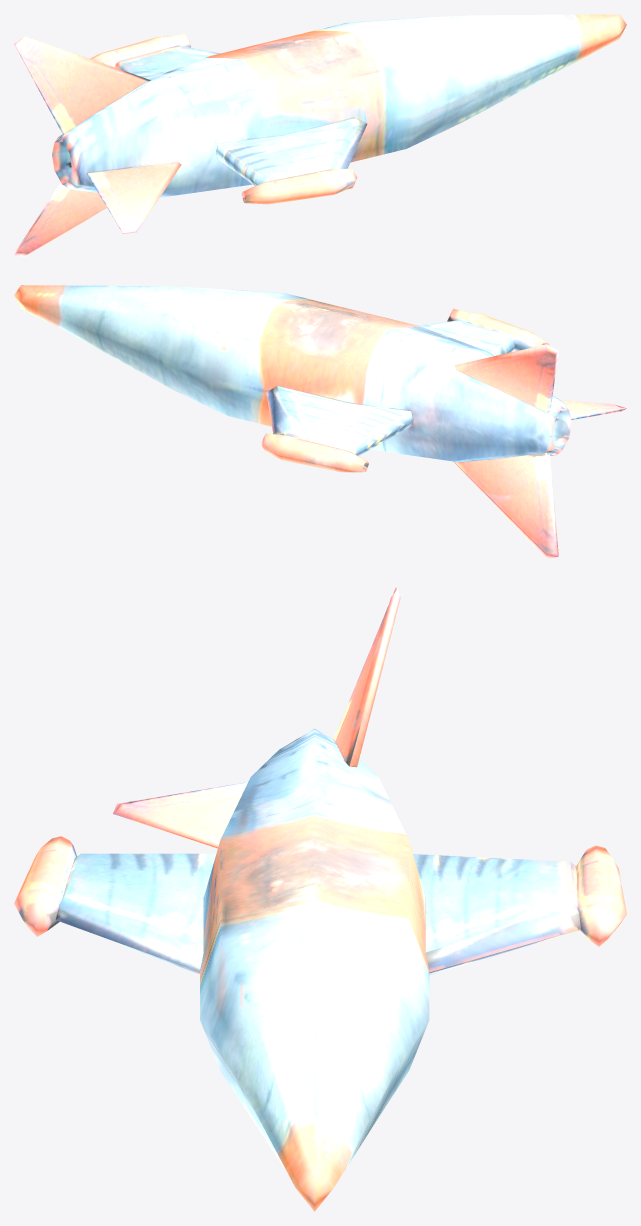
File: rocket-enemy.glb
3 renders of one model, top to bottom at view 1: azimuth 30°, elevation 25°; view 2: azimuth 150°, elevation 25°; view 3: azimuth 270°, elevation 25°, orthographic. The views are drawn at different scales.
Parts seen in each view (by area): view 1: rocket-enemy; view 2: rocket-enemy; view 3: rocket-enemy.
Boxes of the visible parts, x1=… form: rocket-enemy: x1=14, y1=14, x2=626, y2=256; rocket-enemy: x1=14, y1=285, x2=626, y2=558; rocket-enemy: x1=14, y1=587, x2=626, y2=1211.
Bounding box in the file's own units: 3.61 × 1.3 × 2.09.
